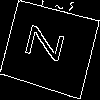Z: (25, 24, 73, 66)
